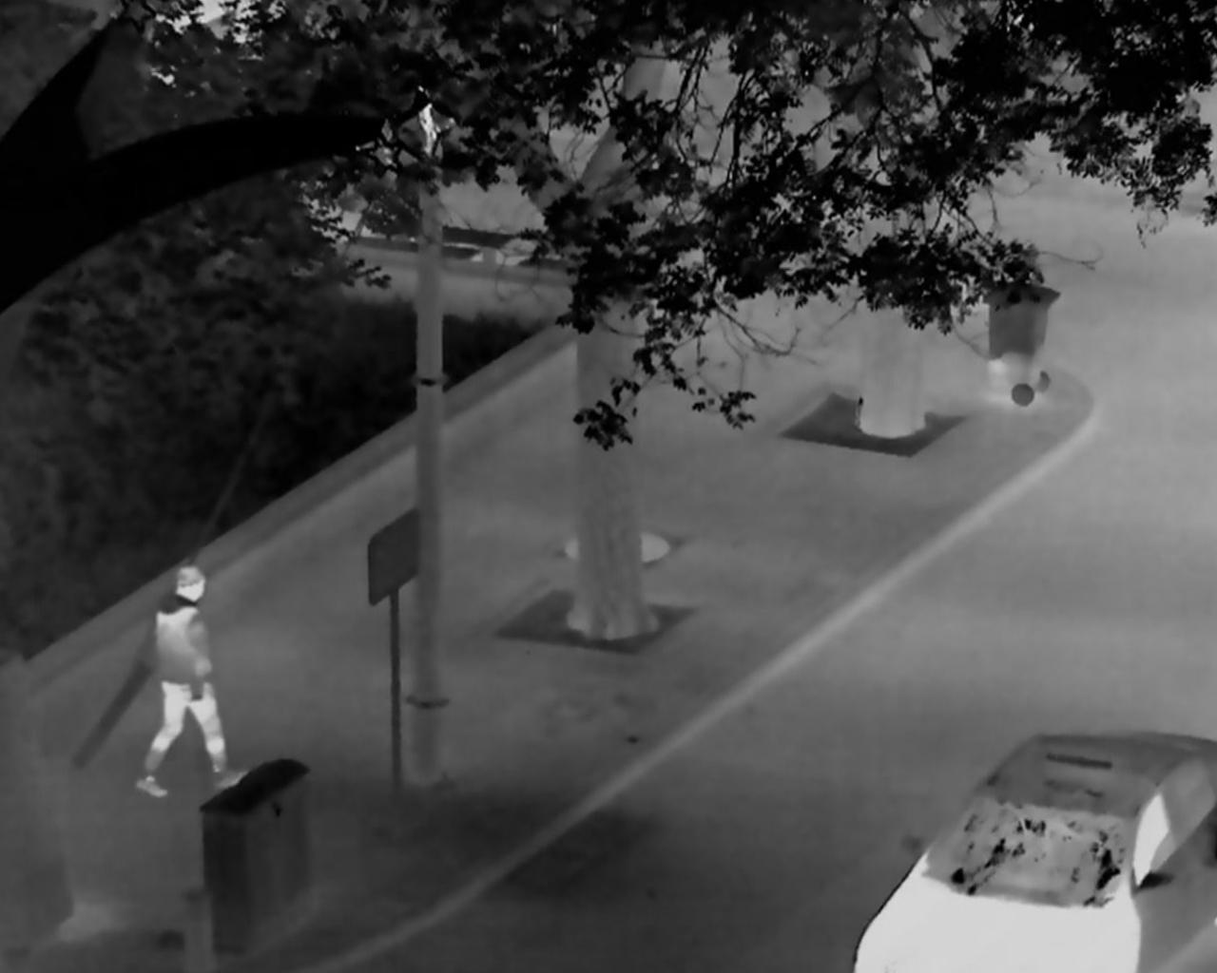person: (135, 563, 250, 796)
